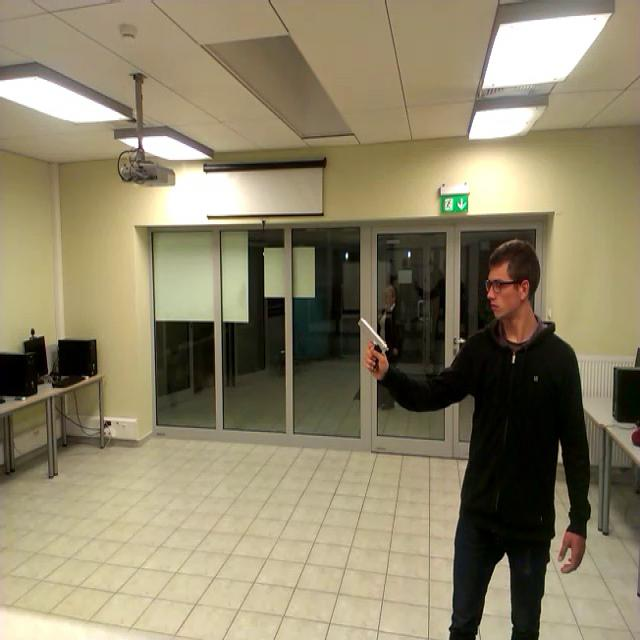handgun: (347, 307, 400, 386)
